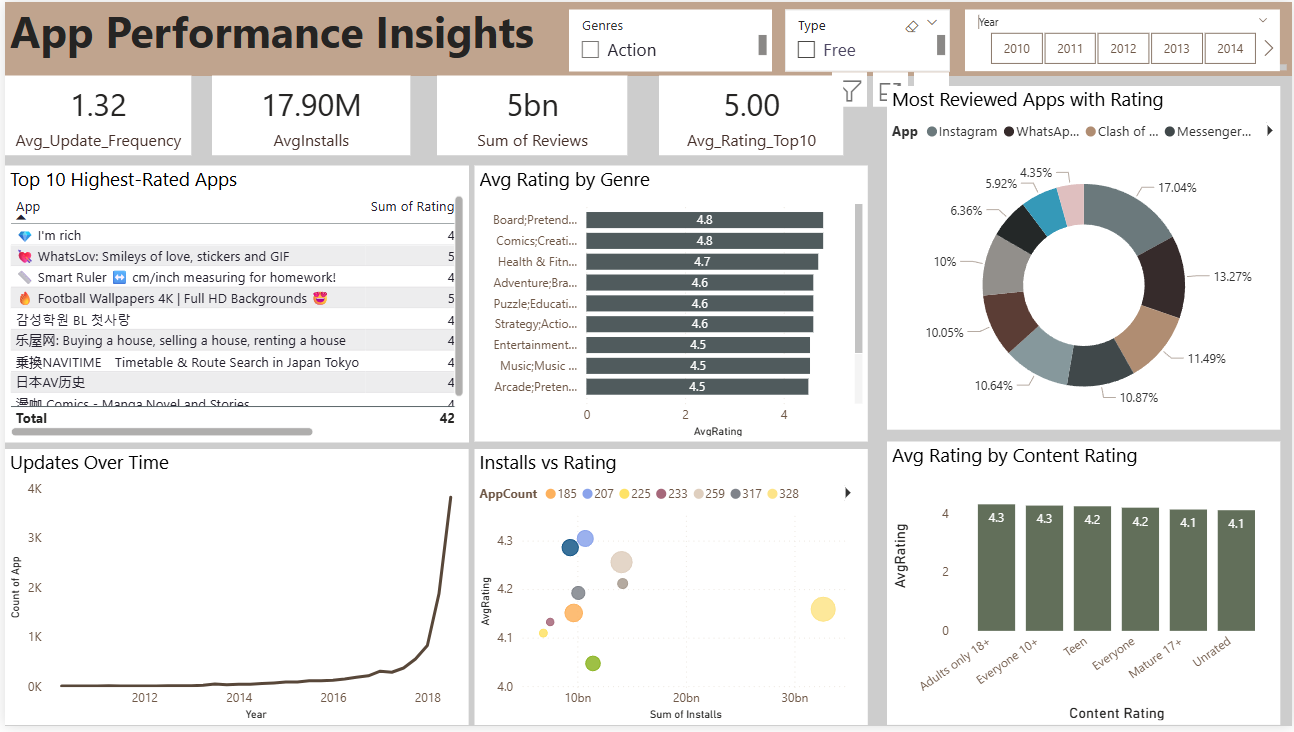

This screenshot's page, from the dashboard's own definition file:
{"tool":"powerbi","page":{"name":"Performance Insights","canvas":[1280,720],"ordinal":1},"visuals":[{"type":"textbox","title":"App Performance Insights","box":[0,0,1280.6,73.1],"z":0},{"type":"slicer","fields":{"Values":["googleplaystore.Genres"]},"box":[561.2,7.5,201.5,61.2],"z":1000},{"type":"slicer","fields":{"Values":["googleplaystore.Type"]},"box":[776.1,7.5,164.2,61.2],"z":2000},{"type":"slicer","fields":{"Values":["googleplaystore.Last Updated.Variation.Date Hierarchy.Year"]},"box":[955.2,7.5,313.4,61.2],"z":3000},{"type":"card","fields":{"Values":["App_Update_Dates.Avg_Update_Frequency"]},"box":[0,73.1,185.1,79.1],"z":4000},{"type":"card","fields":{"Values":["googleplaystore.AvgInstalls"]},"box":[206,73.1,197,79.1],"z":5000},{"type":"card","fields":{"Values":["Sum(googleplaystore.Reviews)"]},"box":[429.9,73.1,189.6,79.1],"z":6000},{"type":"card","fields":{"Values":["googleplaystore.Avg_Rating_Top10"]},"box":[650.7,73.1,183.6,79.1],"z":7000},{"type":"scatterChart","title":"Installs vs Rating","fields":{"X":["Sum(googleplaystore.Installs)"],"Size":["Sum(googleplaystore.Reviews)"],"Series":["Genre_Rating_Summary.AppCount"],"Y":["googleplaystore.AvgRating"]},"box":[467.2,444.8,391,274.6],"z":8000},{"type":"tableEx","title":"Top 10 Highest-Rated Apps","fields":{"Values":["googleplaystore.App","Sum(googleplaystore.Rating)","Sum(googleplaystore.Installs)","Sum(googleplaystore.Reviews)"]},"box":[0,162.7,461.2,274.6],"z":9000},{"type":"lineChart","title":"Updates Over Time","fields":{"Category":["googleplaystore.Last Updated.Variation.Date Hierarchy.Year","googleplaystore.Last Updated.Variation.Date Hierarchy.Quarter"],"Y":["CountNonNull(googleplaystore.App)"]},"box":[0,444.8,461.2,274.6],"z":10000},{"type":"donutChart","title":"Most Reviewed Apps with Rating","fields":{"Category":["googleplaystore.App"],"Y":["Sum(googleplaystore.Reviews)"]},"box":[877.6,83.6,391,341.8],"z":11000},{"type":"clusteredColumnChart","title":"Avg Rating by Content Rating","fields":{"Y":["googleplaystore.AvgRating"],"Category":["googleplaystore.Content Rating"]},"box":[877.6,437.3,391,282.1],"z":12000},{"type":"barChart","title":"Avg Rating by Genre","fields":{"Y":["googleplaystore.AvgRating"],"Category":["googleplaystore.Genres"]},"box":[467.2,162.7,391,274.6],"z":13000}]}

Visuals, with their boxes in screenshot pixels (x1, y1, x2, y2), scaled from the page's 1280x720 canvas onto the 1294x732 screenshot:
"App Performance Insights" textbox: region(0, 0, 1293, 74)
slicer - googleplaystore.Genres: region(567, 8, 771, 70)
slicer - googleplaystore.Type: region(785, 8, 951, 70)
slicer - googleplaystore.Last Updated.Variation.Date Hierarchy.Year: region(966, 8, 1282, 70)
card - App_Update_Dates.Avg_Update_Frequency: region(0, 74, 187, 155)
card - googleplaystore.AvgInstalls: region(208, 74, 407, 155)
card - Sum(googleplaystore.Reviews): region(435, 74, 626, 155)
card - googleplaystore.Avg_Rating_Top10: region(658, 74, 843, 155)
"Installs vs Rating" scatterChart: region(472, 452, 868, 731)
"Top 10 Highest-Rated Apps" tableEx: region(0, 165, 466, 445)
"Updates Over Time" lineChart: region(0, 452, 466, 731)
"Most Reviewed Apps with Rating" donutChart: region(887, 85, 1282, 432)
"Avg Rating by Content Rating" clusteredColumnChart: region(887, 445, 1282, 731)
"Avg Rating by Genre" barChart: region(472, 165, 868, 445)
